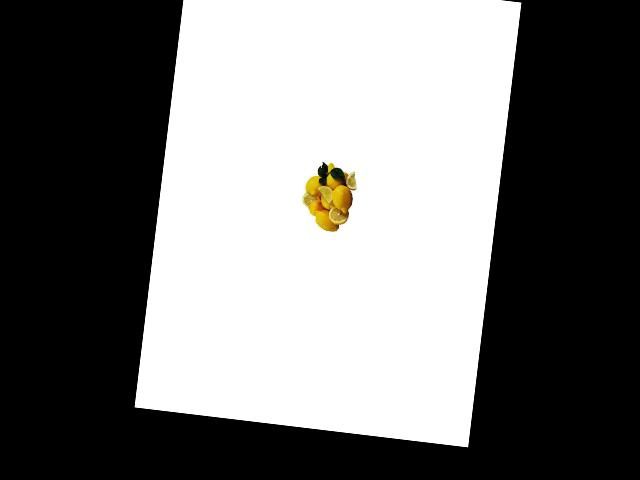lemon: (324, 168, 348, 193)
